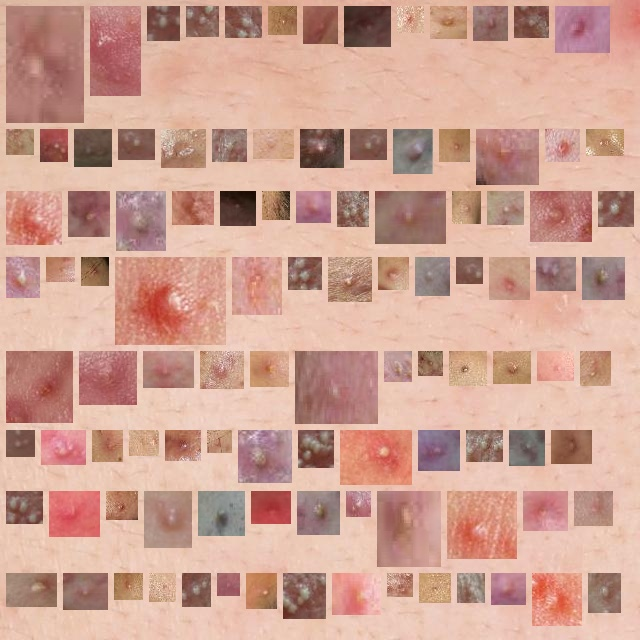pustule: (8, 14, 76, 115), (123, 265, 218, 337), (303, 359, 370, 416), (447, 499, 509, 551), (385, 494, 433, 559), (93, 14, 133, 88), (14, 359, 65, 415), (348, 438, 404, 477), (383, 199, 438, 236), (484, 137, 531, 177), (538, 199, 584, 234), (87, 359, 129, 397), (14, 199, 54, 237), (124, 199, 158, 243), (240, 265, 274, 307), (246, 438, 284, 475), (152, 499, 184, 540), (540, 581, 574, 618), (563, 14, 602, 45), (57, 499, 92, 529), (401, 137, 432, 166), (206, 499, 237, 528), (340, 581, 373, 607), (336, 265, 364, 294), (291, 581, 318, 611), (76, 199, 102, 229), (352, 14, 383, 39), (305, 499, 332, 527), (151, 359, 186, 380), (590, 265, 617, 292), (531, 499, 560, 523), (497, 265, 522, 292), (169, 137, 198, 160), (426, 438, 452, 463), (308, 137, 336, 160), (14, 581, 49, 599), (208, 359, 236, 381), (71, 581, 100, 602), (259, 499, 283, 523), (49, 438, 78, 457), (82, 137, 104, 159), (180, 199, 206, 217), (258, 359, 281, 379), (14, 265, 32, 290), (559, 438, 584, 456), (306, 438, 326, 460), (423, 265, 442, 288), (582, 499, 605, 518), (544, 265, 568, 283), (311, 14, 330, 36), (457, 359, 479, 378), (596, 581, 613, 605), (606, 199, 626, 219), (517, 438, 537, 458), (228, 199, 248, 218), (495, 199, 516, 217), (501, 359, 523, 376), (481, 14, 500, 33), (438, 14, 459, 31), (14, 499, 35, 516), (261, 137, 286, 151), (233, 14, 254, 30), (474, 438, 495, 454), (155, 14, 172, 33), (220, 137, 239, 154), (553, 137, 572, 154), (345, 199, 361, 219), (126, 137, 147, 152), (358, 137, 379, 152), (296, 265, 314, 282), (522, 14, 541, 30), (304, 199, 323, 215), (499, 581, 518, 597), (173, 438, 193, 453), (254, 581, 269, 601), (545, 359, 566, 373), (588, 359, 603, 378), (194, 14, 211, 29), (447, 137, 462, 154), (386, 265, 401, 282), (594, 137, 616, 148), (100, 438, 115, 454), (190, 581, 203, 599), (427, 581, 443, 595), (460, 199, 473, 216), (114, 499, 130, 512), (48, 137, 60, 154), (392, 359, 404, 374), (276, 14, 289, 27), (465, 581, 477, 595), (270, 199, 282, 212), (89, 265, 101, 278), (14, 438, 27, 449), (122, 581, 135, 592), (157, 581, 168, 594), (137, 438, 151, 448), (405, 14, 416, 25), (464, 265, 475, 276), (14, 137, 26, 147), (54, 265, 67, 274), (354, 499, 363, 509), (426, 359, 435, 368), (395, 581, 405, 589), (215, 438, 224, 445), (225, 581, 232, 588)
